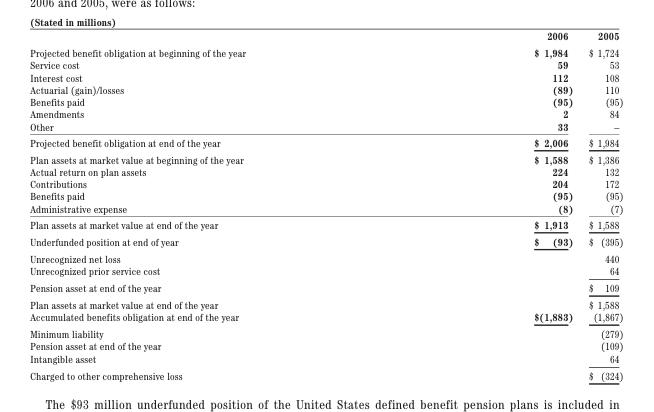table: (29, 29, 622, 381)
table column: (29, 29, 389, 381), (389, 29, 580, 381), (580, 29, 622, 381)
table column header: (29, 29, 622, 43)
table row: (29, 232, 622, 249), (29, 278, 622, 295), (29, 134, 622, 150), (29, 216, 622, 232), (29, 43, 622, 58), (29, 119, 622, 134), (29, 150, 622, 165), (29, 201, 622, 216), (29, 249, 622, 264), (29, 295, 622, 310), (29, 310, 622, 325), (29, 351, 622, 366), (29, 366, 622, 381), (29, 29, 622, 43), (29, 264, 622, 278), (29, 325, 622, 339), (29, 70, 622, 83), (29, 58, 622, 70), (29, 83, 622, 95), (29, 95, 622, 107), (29, 107, 622, 119), (29, 165, 622, 177), (29, 177, 622, 189), (29, 189, 622, 201), (29, 339, 622, 351)
